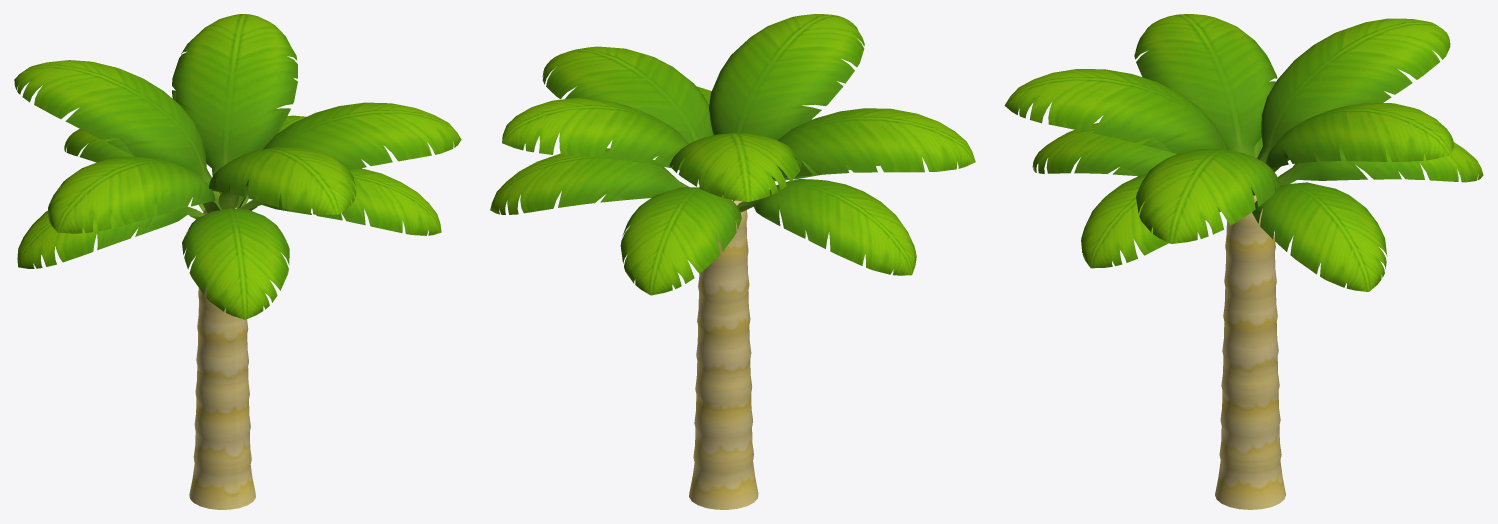
File: palm.fbx
The picture shows the model from 3 angles, left to right: view 1: azimuth 30°, elevation 25°; view 2: azimuth 150°, elevation 25°; view 3: azimuth 270°, elevation 25°; orthographic projection. The views are drawn at different scales.
Visible parts, largest first — view 1: Palm, Trunk; view 2: Palm, Trunk; view 3: Palm, Trunk.
Part boxes in pixels (x1,y1,x2,y2): Palm: (14,14,461,319); Trunk: (189,207,255,509); Palm: (490,14,975,295); Trunk: (689,199,758,509); Palm: (1004,14,1483,291); Trunk: (1215,195,1285,509).
Bounding box in the file's own units: 10024 × 9444 × 9659.
